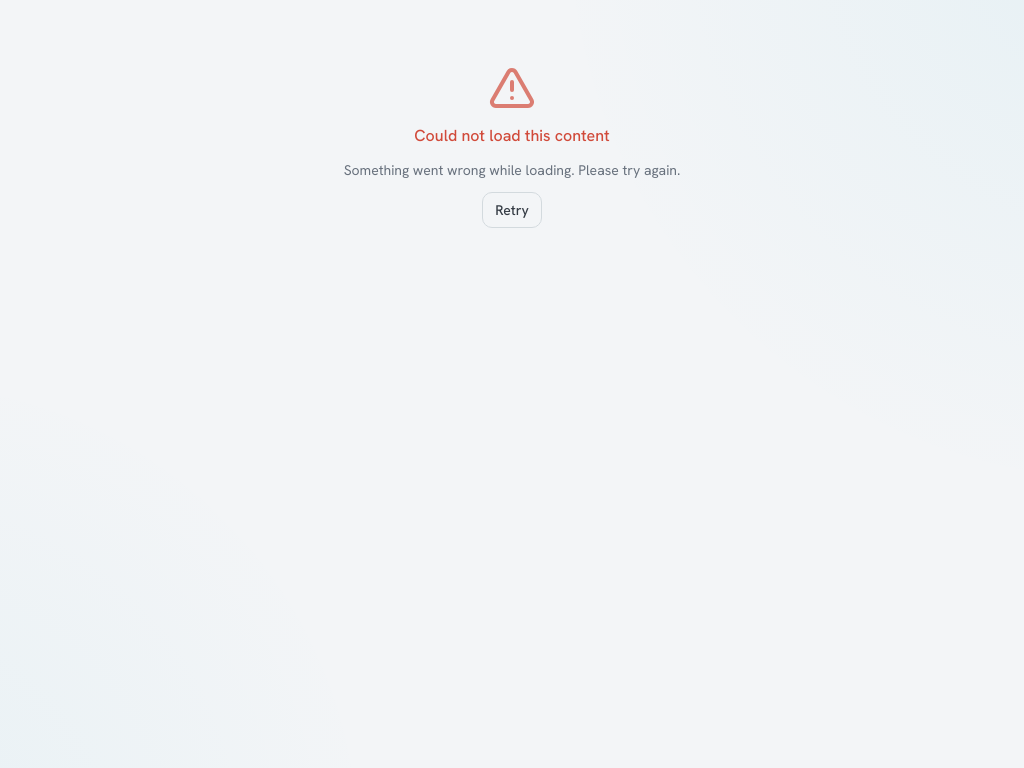
Test: AgentDashboard load-failure honesty (H4) › retry refetches the merchant book once the server recovers
This screenshot has width=1024, height=768.
Click the button "Retry": (512, 210) top-left (482, 192), bottom-right (542, 228)
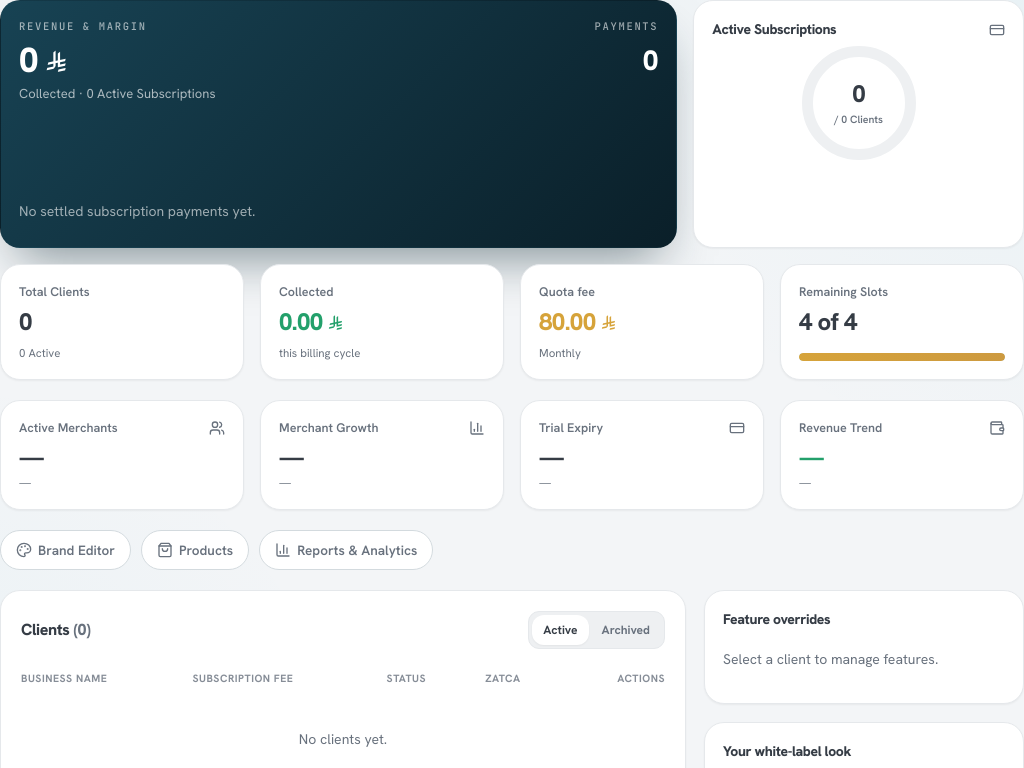
expect the message is gone: met
expect the element that starts with "Revenue & Margin" is shown: met, box top-left (0, 0), bottom-right (1023, 380)
